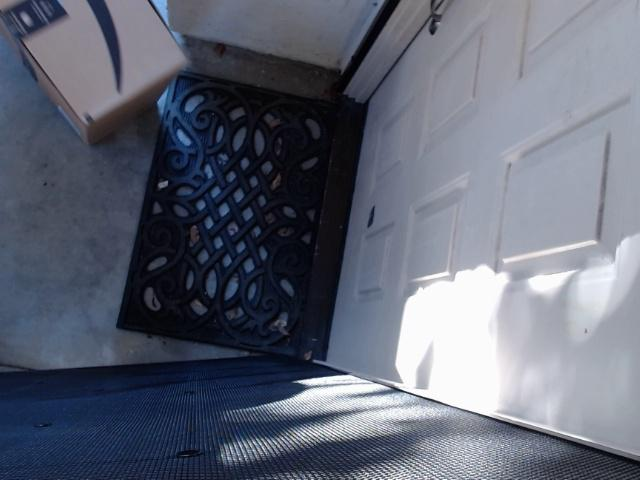box: (0, 0, 213, 153)
